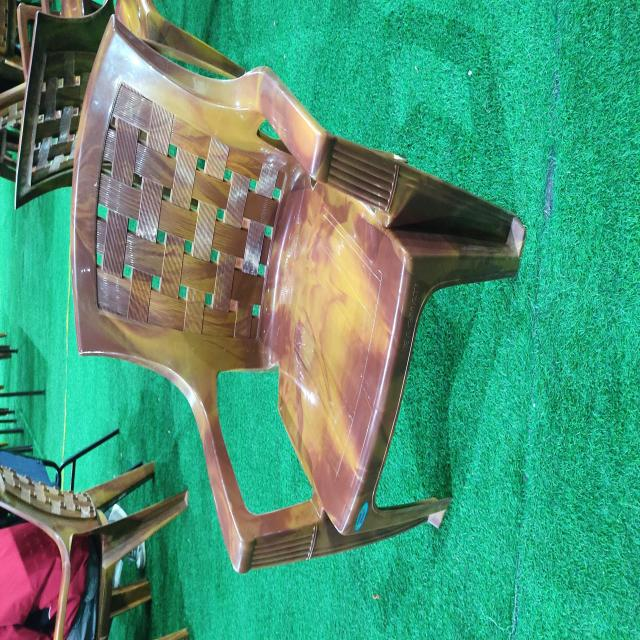Pringles: (68, 3, 526, 573)
